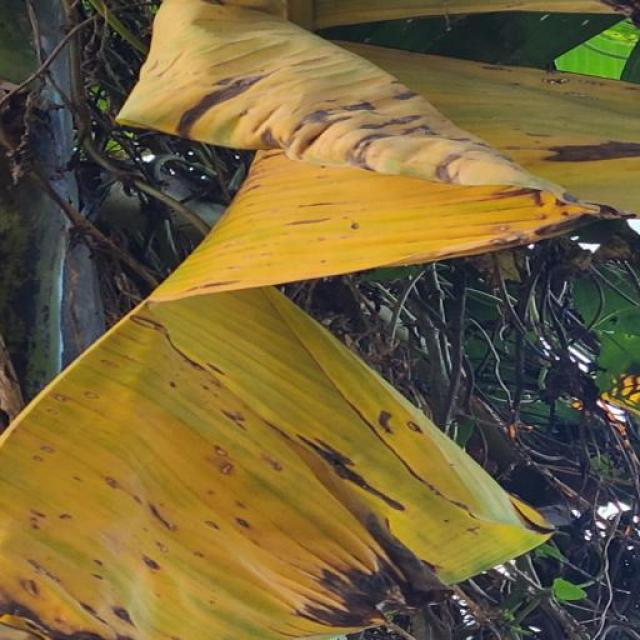Cordana: (99, 0, 640, 389), (4, 339, 554, 640)
